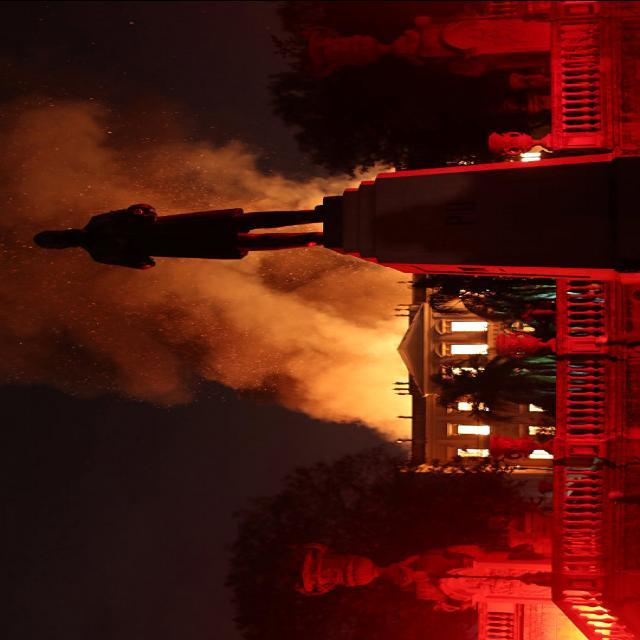Fire: (394, 270, 502, 460)
